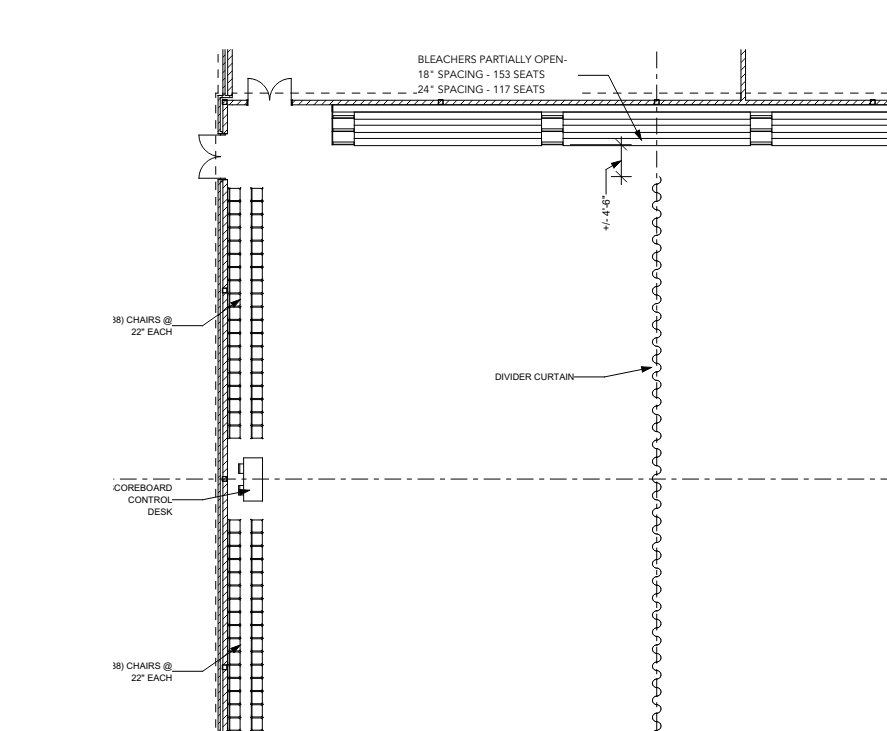double door: (192, 129, 231, 182), (245, 75, 295, 106)
